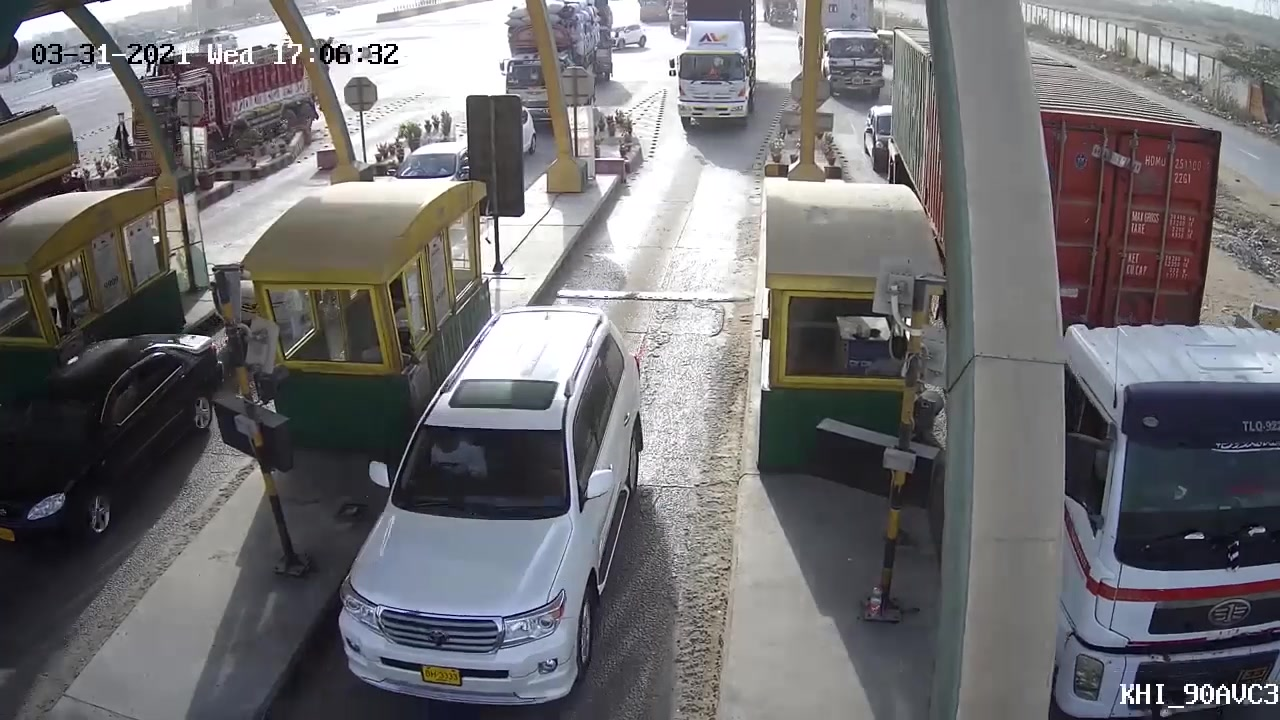F1: (307, 296, 660, 705)
